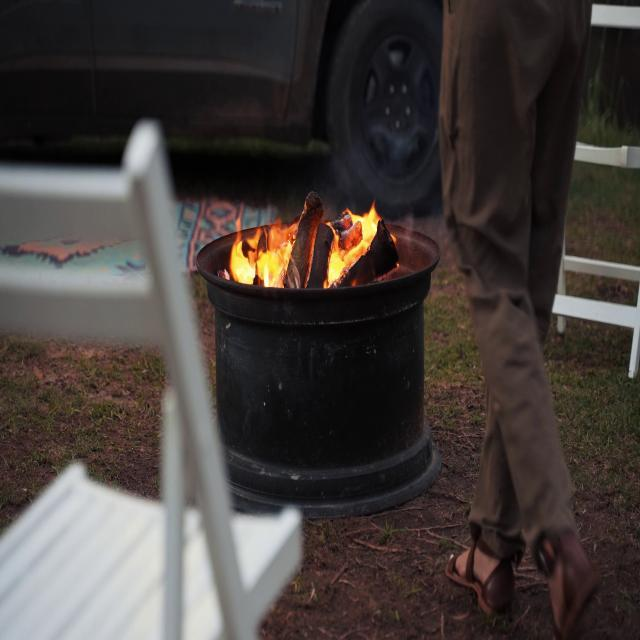Fire: (228, 186, 383, 286)
